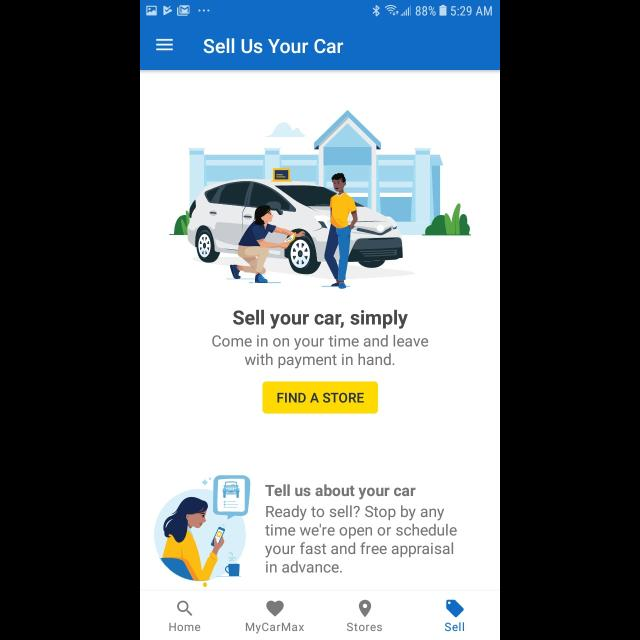icon: (446, 599, 464, 617), (266, 600, 284, 616), (177, 600, 193, 616), (358, 599, 372, 617), (156, 38, 174, 52)
image: (169, 110, 471, 290), (154, 475, 250, 587)
text: (265, 505, 457, 573), (213, 335, 429, 369), (234, 310, 408, 330), (264, 484, 416, 500), (204, 38, 344, 54), (246, 622, 304, 634), (348, 622, 382, 632), (170, 622, 200, 632), (446, 621, 464, 631)
textbutton: (262, 382, 378, 414)
uppertaskbar: (140, 1, 500, 18)
